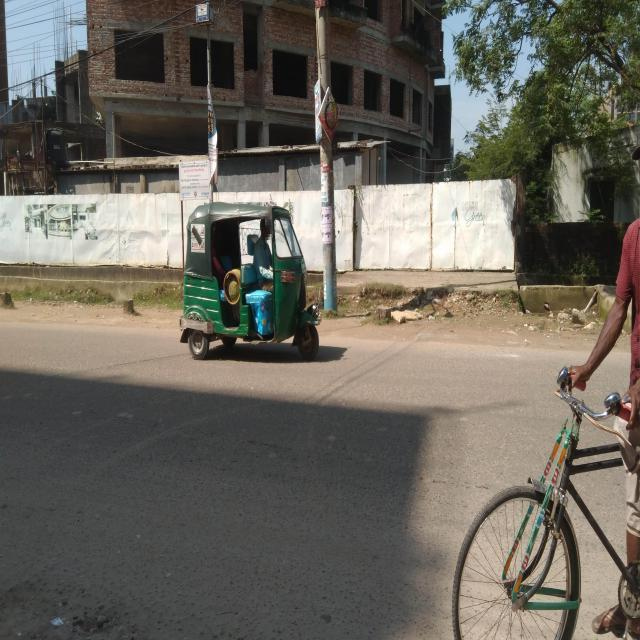CNG: (176, 182, 326, 360)
